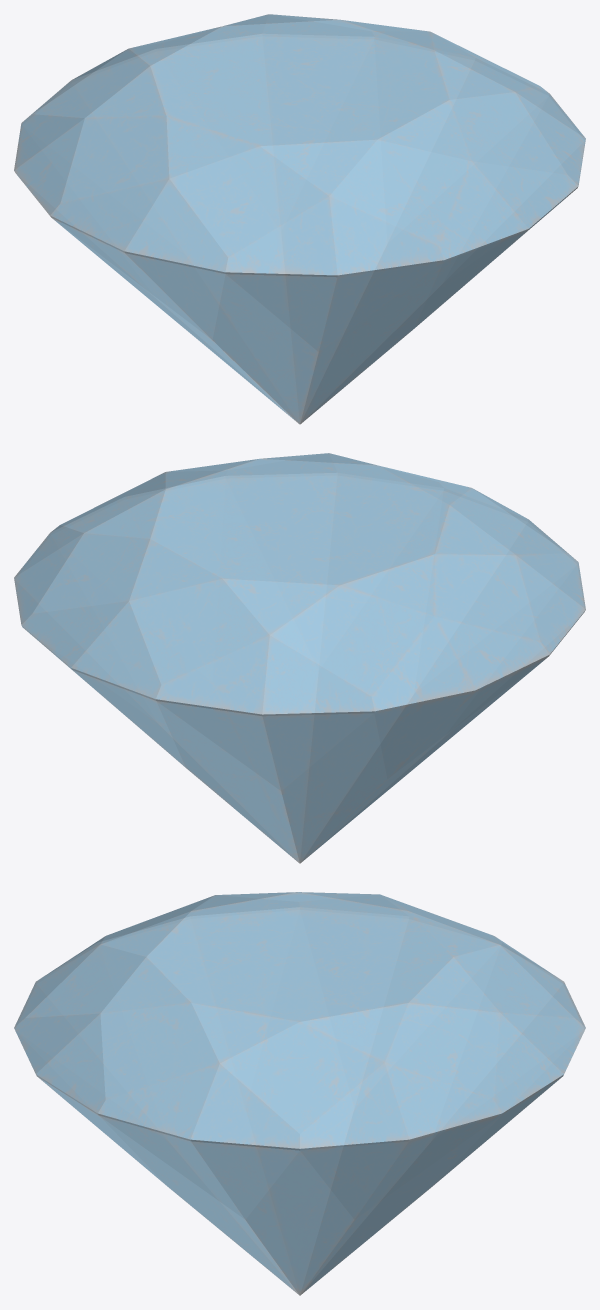
The model's file is diamond4.glb.
3 views of the same model, one above another, from view 1: azimuth 30°, elevation 25°; view 2: azimuth 150°, elevation 25°; view 3: azimuth 270°, elevation 25° (orthographic).
Visible parts, largest first — view 1: pCone1; view 2: pCone1; view 3: pCone1.
Boxes of the visible parts, x1,y1,x2,y2 form: pCone1: [14, 14, 585, 424]; pCone1: [14, 453, 585, 863]; pCone1: [14, 892, 585, 1295].
Size of the model in its own units: 10.81 by 7.07 by 10.81.
1 material, 1 textured.
